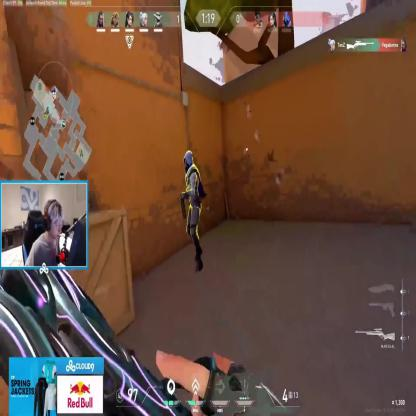enemy: (180, 149, 207, 273)
enemy_head: (183, 150, 194, 173)
